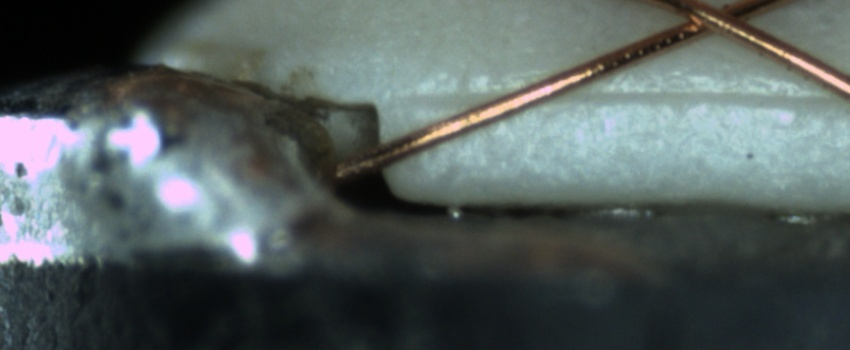CL: (659, 2, 770, 44)
DL: (408, 68, 850, 125)
